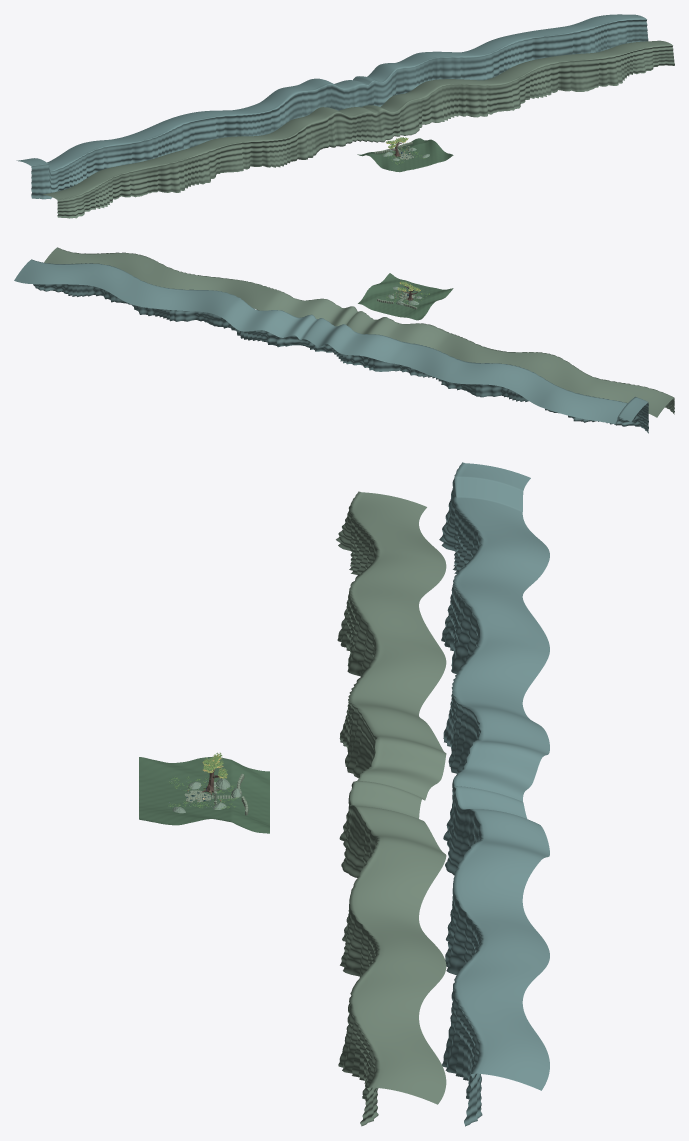
Rendered from garden.glb.
3 renders of one model, top to bottom at view 1: azimuth 30°, elevation 25°; view 2: azimuth 150°, elevation 25°; view 3: azimuth 270°, elevation 25°, orthographic. The views are drawn at different scales.
Visible parts, largest first — view 1: Eroded ravine • 0, Eroded ravine • 1, Sculpted garden floor; view 2: Eroded ravine • 1, Eroded ravine • 0, Sculpted garden floor; view 3: Eroded ravine • 1, Eroded ravine • 0, Sculpted garden floor.
Part boxes in pixels (<box>): Eroded ravine • 0: <box>43,40,674,218</box>; Eroded ravine • 1: <box>16,14,648,199</box>; Sculpted garden floor: <box>357,138,453,172</box>; Eroded ravine • 1: <box>14,259,648,433</box>; Eroded ravine • 0: <box>44,247,674,417</box>; Sculpted garden floor: <box>358,273,453,320</box>; Eroded ravine • 1: <box>439,462,549,1126</box>; Eroded ravine • 0: <box>336,491,446,1126</box>; Sculpted garden floor: <box>139,756,269,833</box>.
Bounding box in the file's own units: 520 × 31.4 × 151.
